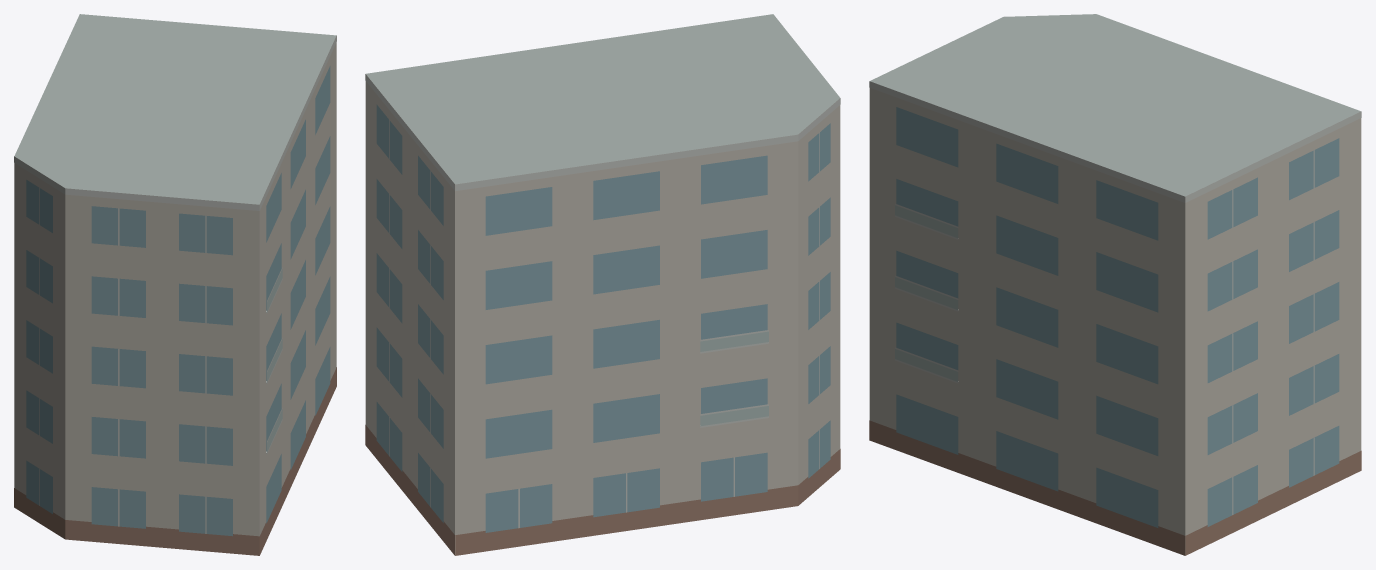
Rendered from survey-upis-32892527.glb.
3 renders of one model, left to right at view 1: azimuth 30°, elevation 25°; view 2: azimuth 150°, elevation 25°; view 3: azimuth 270°, elevation 25°, orthographic. The views are drawn at different scales.
Visible parts, largest first — view 1: survey-upis-32892527.tmp; view 2: survey-upis-32892527.tmp; view 3: survey-upis-32892527.tmp.
Part boxes in pixels (x1,y1,x2,y2): survey-upis-32892527.tmp: [14, 14, 336, 555]; survey-upis-32892527.tmp: [365, 14, 840, 555]; survey-upis-32892527.tmp: [869, 14, 1361, 555].
Bounding box in the file's own units: 14.72 × 13.5 × 16.76.
